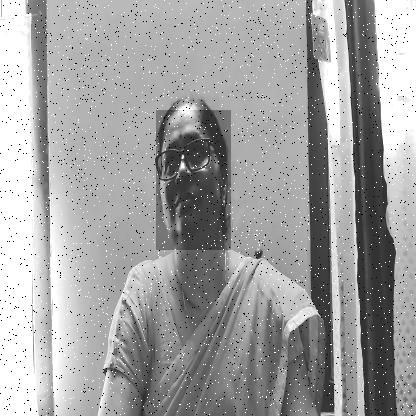Distracted: (156, 110, 231, 250)
